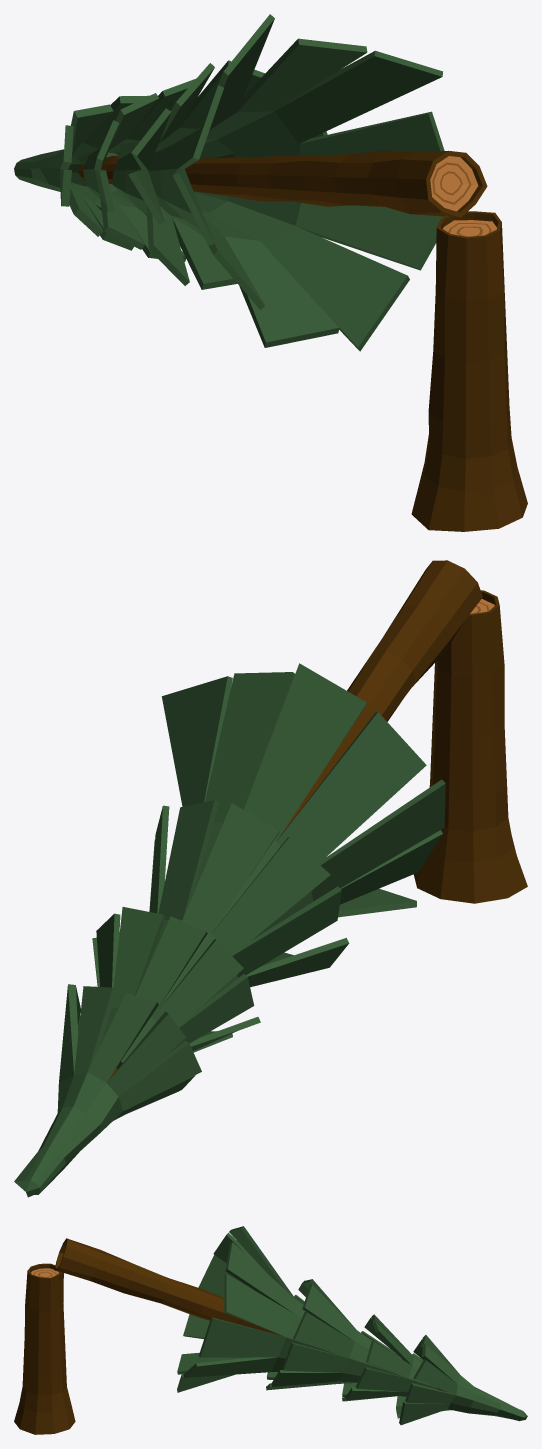
3 renders of one model, top to bottom at view 1: azimuth 30°, elevation 25°; view 2: azimuth 150°, elevation 25°; view 3: azimuth 270°, elevation 25°, orthographic. The views are drawn at different scales.
Parts seen in each view (by area): view 1: Цилиндр.018; view 2: Цилиндр.018; view 3: Цилиндр.018.
Boxes of the visible parts, x1,y1,x2,y2 form: Цилиндр.018: [14, 14, 527, 531]; Цилиндр.018: [14, 560, 527, 1197]; Цилиндр.018: [14, 1226, 527, 1434].
Bounding box in the file's own units: 8819 × 10907 × 26234.
